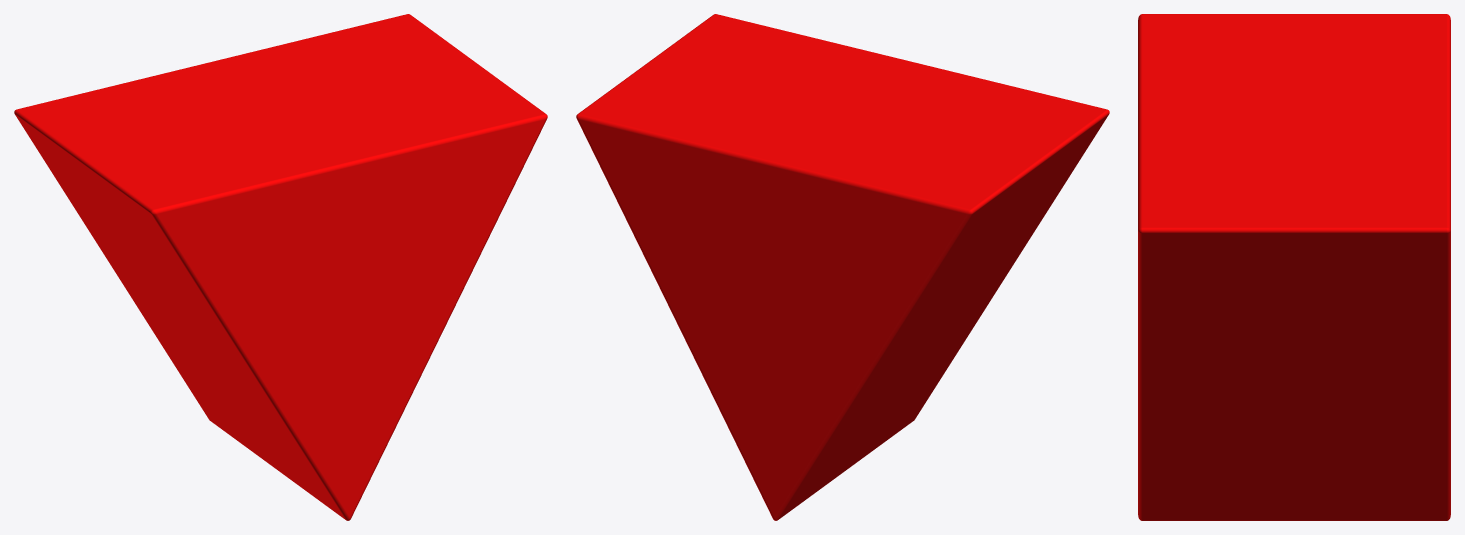
File: pergunta6.glb
3 views of the same model, side by side, from view 1: azimuth 30°, elevation 25°; view 2: azimuth 150°, elevation 25°; view 3: azimuth 270°, elevation 25° (orthographic). The views are drawn at different scales.
Visible parts, largest first — view 1: node_id71; view 2: node_id71; view 3: node_id71.
Part boxes in pixels (x1,y1,x2,y2): node_id71: (14,14,547,520); node_id71: (576,14,1109,520); node_id71: (1138,14,1450,520).
Bounding box in the file's own units: 0.512 × 0.4426 × 0.3132.
1 material, 1 textured.
